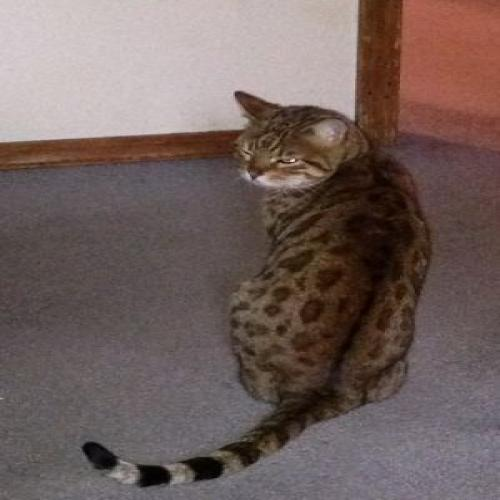cat-face: (216, 84, 361, 196)
